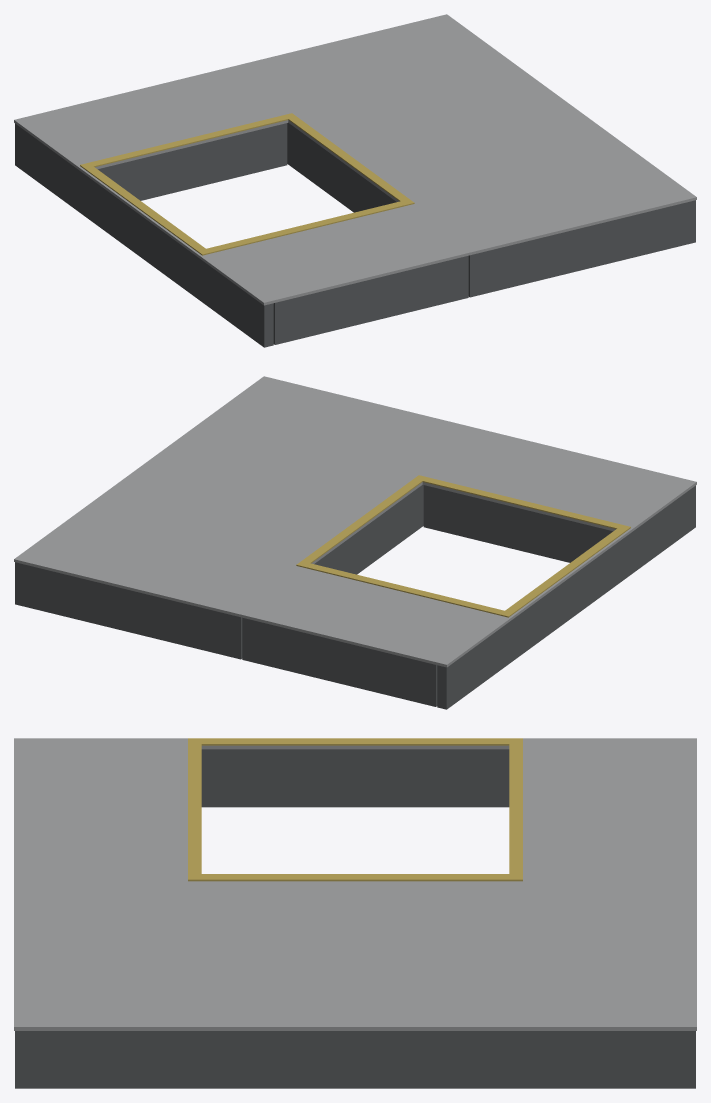
Rendered from floorHatch_steel.glb.
The picture shows the model from 3 angles, top to bottom: view 1: azimuth 30°, elevation 25°; view 2: azimuth 150°, elevation 25°; view 3: azimuth 270°, elevation 25°; orthographic projection. The views are drawn at different scales.
Parts seen in each view (by area): view 1: floorHatch_steel; view 2: floorHatch_steel; view 3: floorHatch_steel.
Boxes of the visible parts, box(x1,y1,x2,y2) form: floorHatch_steel: box(14, 14, 696, 347); floorHatch_steel: box(14, 376, 696, 709); floorHatch_steel: box(14, 738, 696, 1088).
Bounding box in the file's own units: 2 × 0.205 × 2.
